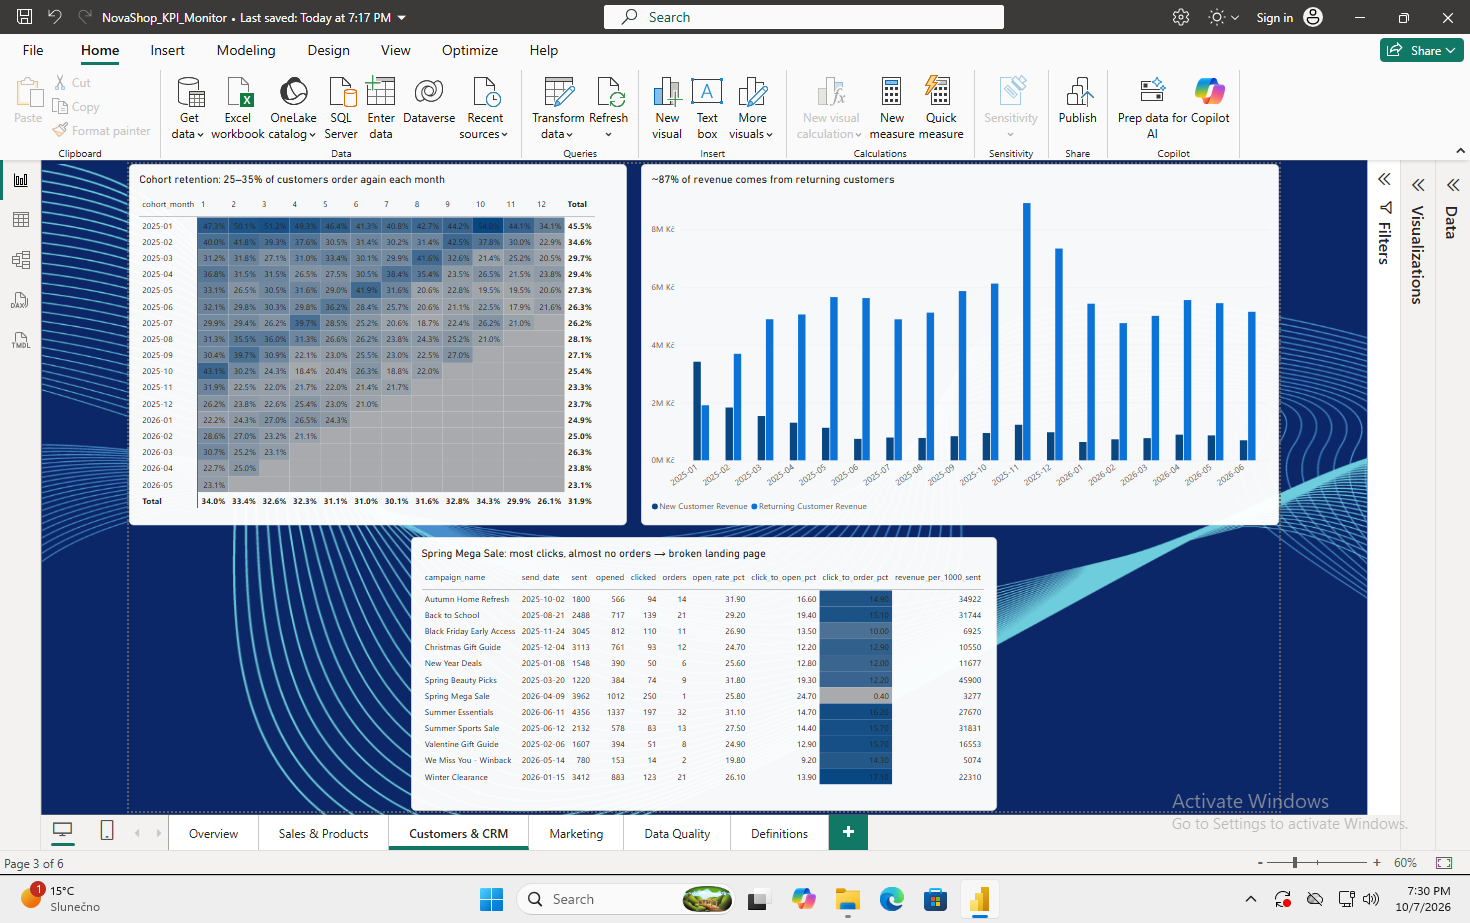

The page's visual inventory and layout, read from the dashboard file:
{"tool":"powerbi","page":{"name":"Customers & CRM","canvas":[1920,1080],"ordinal":2},"visuals":[{"type":"clusteredColumnChart","title":"~87% of revenue comes from returning customers","fields":{"Category":["dim_date.year_month"],"Y":["_Measures.New Customer Revenue","_Measures.Returning Customer Revenue"]},"box":[854.7,0,1065,602.6],"z":0},{"type":"pivotTable","title":"Cohort retention: 25–35% of customers order again each month","fields":{"Columns":["vw_cohort_retention.months_since_first"],"Rows":["vw_cohort_retention.cohort_month"],"Values":["_Measures.Cohort Retention %"]},"box":[0,0,831.3,602.6],"z":1},{"type":"tableEx","title":"Spring Mega Sale: most clicks, almost no orders → broken landing page","fields":{"Values":["vw_email_funnel.campaign_name","vw_email_funnel.send_date","vw_email_funnel.sent","vw_email_funnel.opened","vw_email_funnel.clicked","vw_email_funnel.orders","vw_email_funnel.open_rate_pct","vw_email_funnel.click_to_open_pct","vw_email_funnel.click_to_order_pct","vw_email_funnel.revenue_per_1000_sent"]},"box":[470.7,622.6,976.5,457.4],"z":2}]}

Visuals, with their boxes on the page's 1920x1080 design canvas (x1, y1, x2, y2). These are canvas units, not pixel positions in the 1470x923 screenshot, which may show the page scaled, cropped or inside an application window:
"~87% of revenue comes from returning customers" clusteredColumnChart: select_region(855, 0, 1920, 603)
"Cohort retention: 25–35% of customers order again each month" pivotTable: select_region(0, 0, 831, 603)
"Spring Mega Sale: most clicks, almost no orders → broken landing page" tableEx: select_region(471, 623, 1447, 1080)
